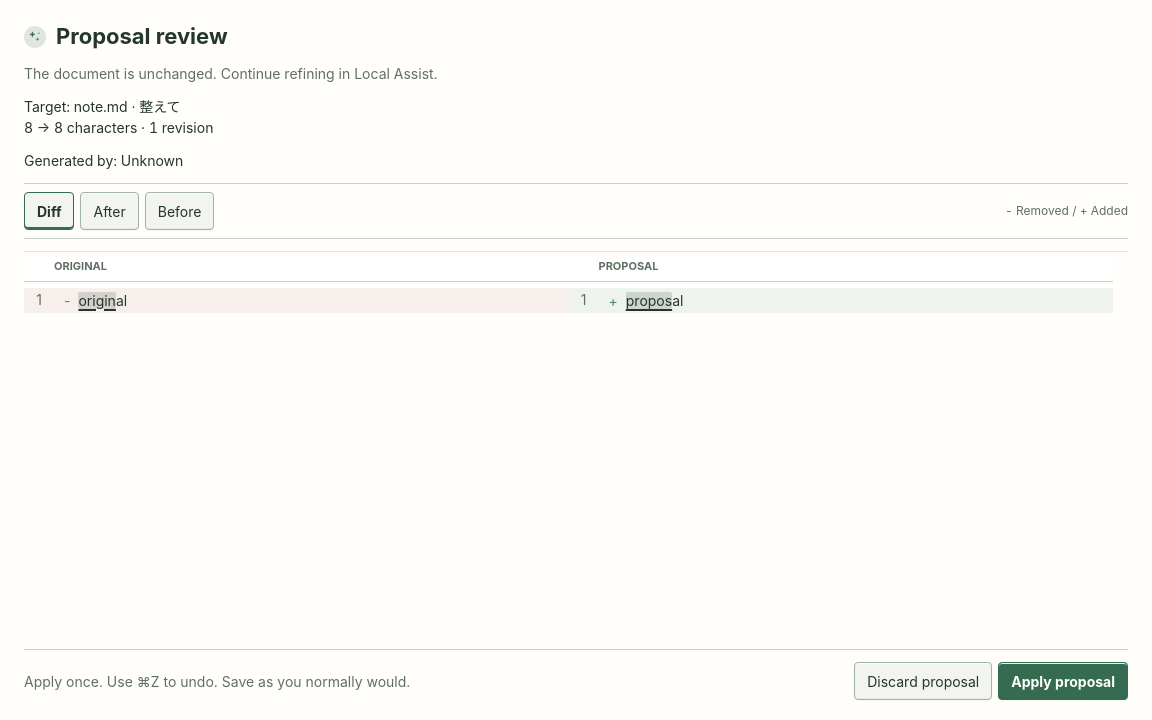
Scenario: LocalAssistProposalReview › renders the original-vs-proposal Diff and forwards exactly the reviewed proposal
Expected: the table is shown, [24,251,1128,637]
Expected: the column heading "Original" is shown, [54,258,568,274]
Click the button "Apply proposal": coordinates (1063, 681) [998,662,1128,700]
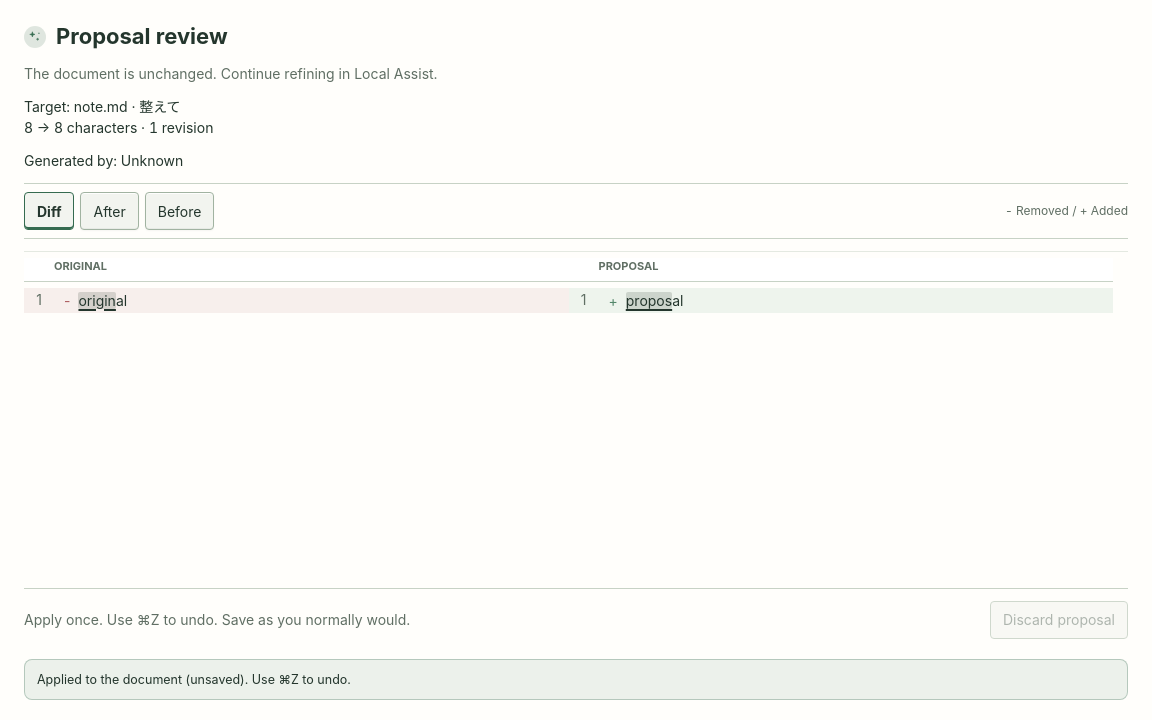
Expected: the text "Applied to the document (unsaved). Use ⌘Z to undo." is shown, [24,659,1128,700]
Expected: the button "Apply proposal" is gone
